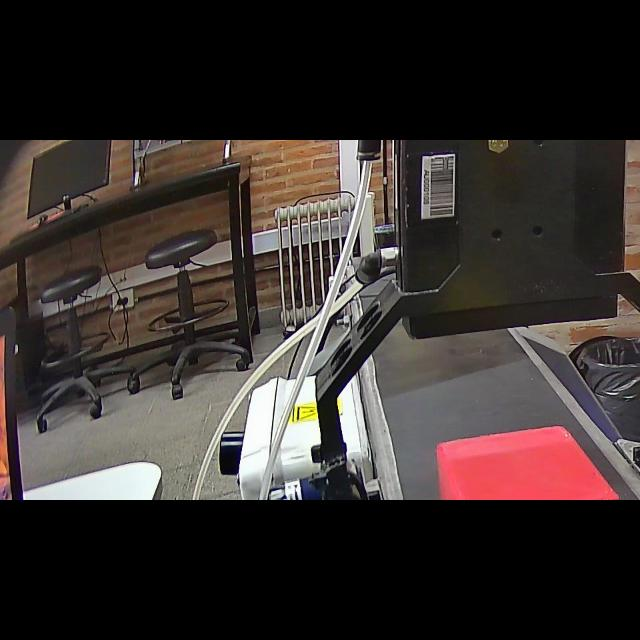redBox: (430, 416, 632, 500)
